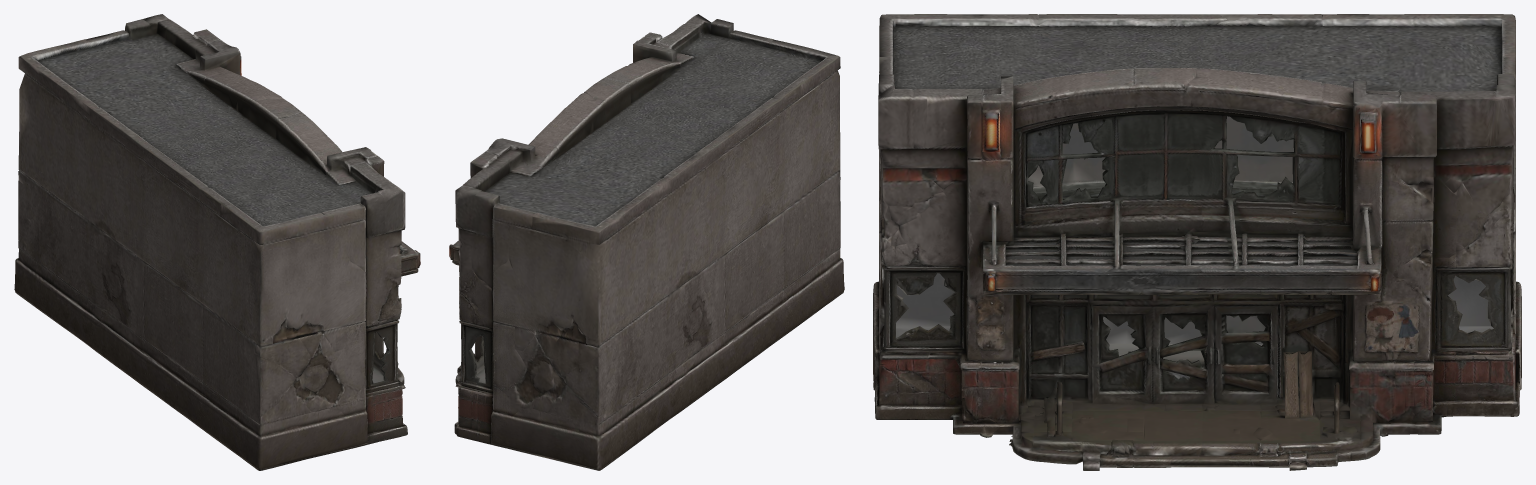
File: tripo_convert_3d7f35a3-633b-4d2e-87d0-6145e1a83c24.fbx
The picture shows the model from 3 angles, left to right: view 1: azimuth 30°, elevation 25°; view 2: azimuth 150°, elevation 25°; view 3: azimuth 270°, elevation 25°; orthographic projection. The views are drawn at different scales.
Visible parts, largest first — view 1: tripo_node_3d7f35a3; view 2: tripo_node_3d7f35a3; view 3: tripo_node_3d7f35a3.
Part boxes in pixels (x1=…): tripo_node_3d7f35a3: x1=14, y1=14, x2=420, y2=470; tripo_node_3d7f35a3: x1=449, y1=14, x2=844, y2=470; tripo_node_3d7f35a3: x1=873, y1=14, x2=1521, y2=470.
Size of the model in its own units: 0.5048 by 0.5667 by 0.9809.
Materials: 1 (1 with a texture image).
